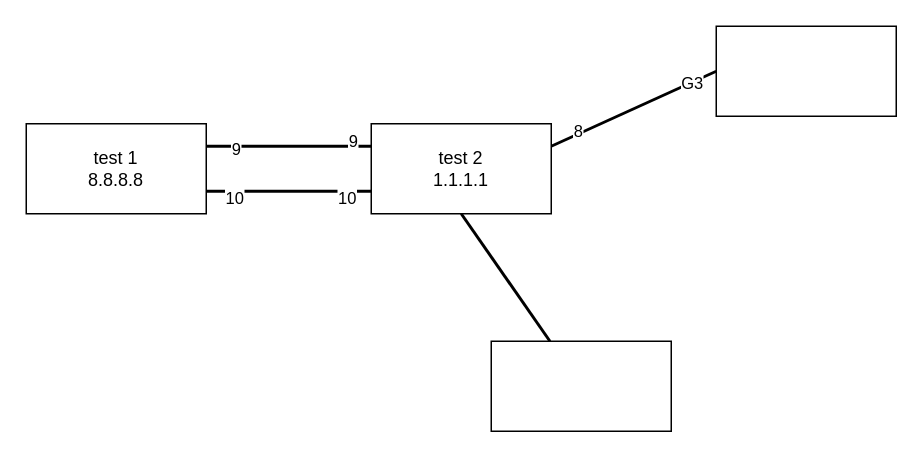
The diagram is 923 pixels wide and 458 high, and some of its shapes have lost their labels. Here are the shapes that lost their labels. From the top down, the box of each, then its label:
(715, 25, 896, 116): test 3 192.168.0.1
(490, 340, 671, 431): shitty broken switch 192.168.7.2
